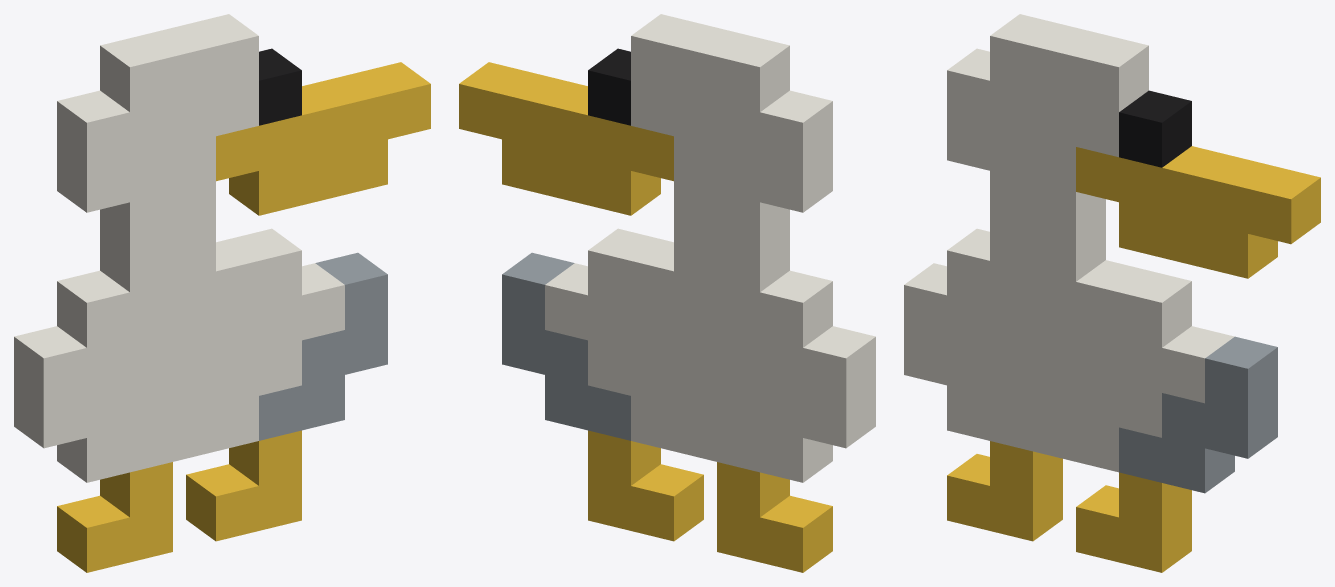
File: magnet_pelican.glb
The picture shows the model from 3 angles, left to right: view 1: azimuth 30°, elevation 25°; view 2: azimuth 150°, elevation 25°; view 3: azimuth 330°, elevation 25°; orthographic projection.
Visible parts, largest first — view 1: Magnet_pelican; view 2: Magnet_pelican; view 3: Magnet_pelican.
Boxes of the visible parts, left/top/right/bottom form: Magnet_pelican: left=14, top=14, right=430, bottom=572; Magnet_pelican: left=459, top=14, right=875, bottom=572; Magnet_pelican: left=904, top=14, right=1320, bottom=572.
Size of the model in its own units: 0.045 by 0.055 by 0.006.
1 material, 1 textured.
